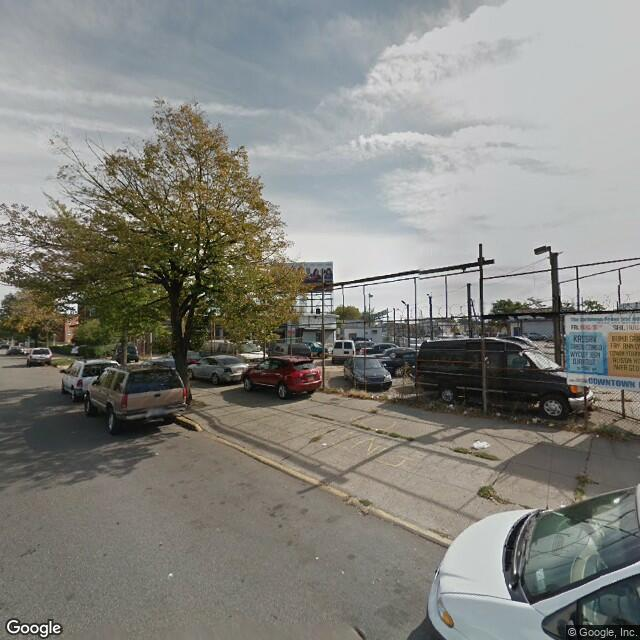litter: (466, 438, 496, 451), (316, 439, 332, 448)
